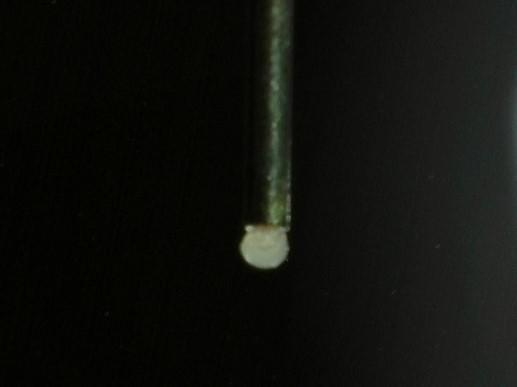water drop: (238, 224, 291, 271)
